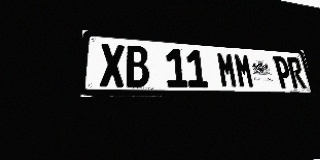1: (164, 48, 188, 88), (185, 49, 208, 88)
B: (125, 45, 150, 87)
M: (216, 52, 239, 88), (233, 53, 255, 88)
P: (272, 56, 293, 88)
R: (286, 57, 307, 89)
X: (100, 43, 125, 87)
